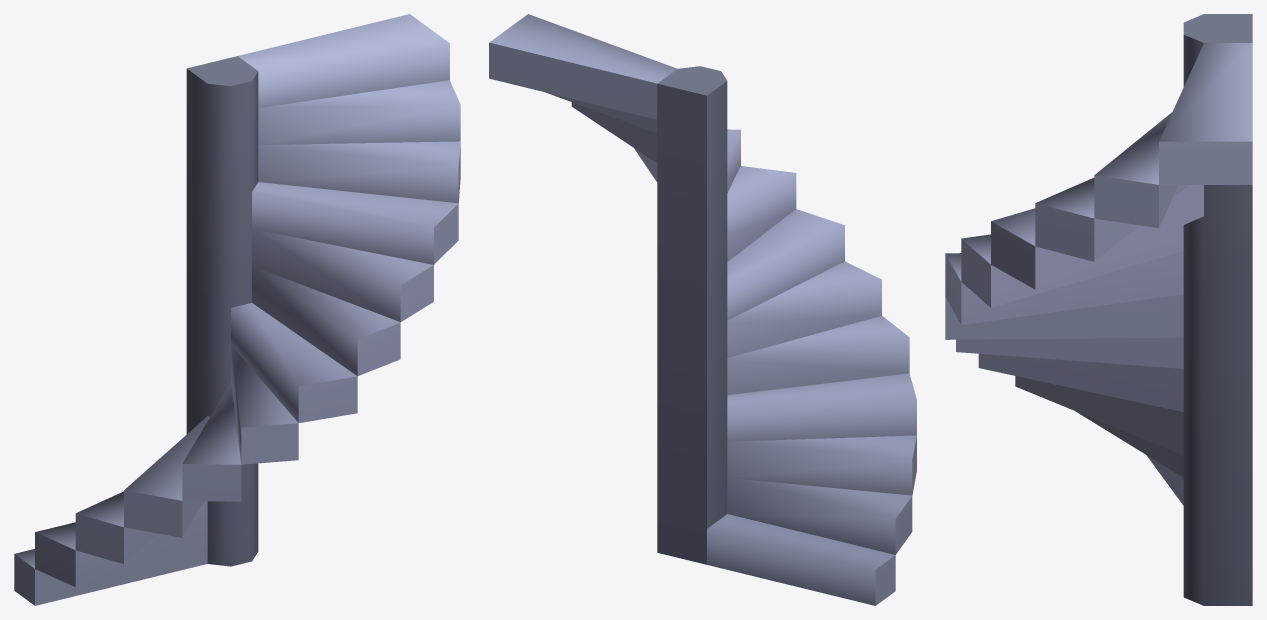
File: stairs-stone-round.glb
The picture shows the model from 3 angles, left to right: view 1: azimuth 30°, elevation 25°; view 2: azimuth 150°, elevation 25°; view 3: azimuth 270°, elevation 25°; orthographic projection. The views are drawn at different scales.
Parts seen in each view (by area): view 1: stairs-stone-round; view 2: stairs-stone-round; view 3: stairs-stone-round.
Boxes of the visible parts, box(x1,y1,x2,y2) form: stairs-stone-round: box(14, 14, 460, 605); stairs-stone-round: box(489, 14, 916, 605); stairs-stone-round: box(945, 14, 1252, 605).
Size of the model in its own units: 0.8618 by 1 by 0.4948.
Materials: 1 (1 with a texture image).
